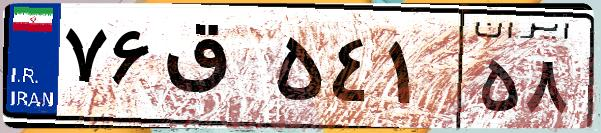1: (385, 28, 445, 110)
4: (330, 28, 385, 110)
5: (270, 28, 330, 110), (475, 38, 525, 113)
6: (110, 28, 158, 98)
7: (57, 26, 110, 100)
8: (525, 38, 570, 115)
ق: (158, 20, 270, 120)
